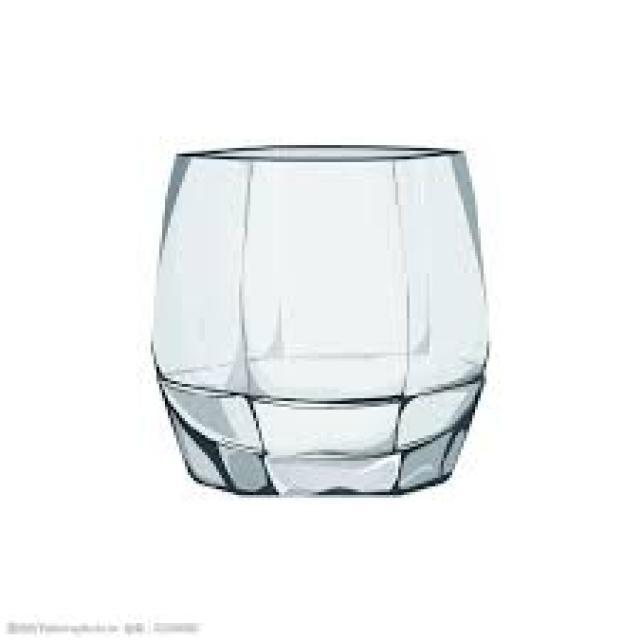Glass: (147, 144, 489, 499)
